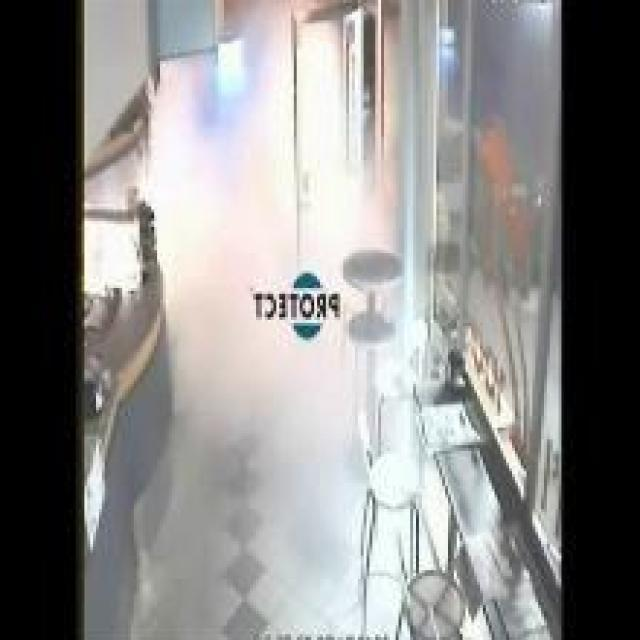fire: (154, 0, 396, 463)
